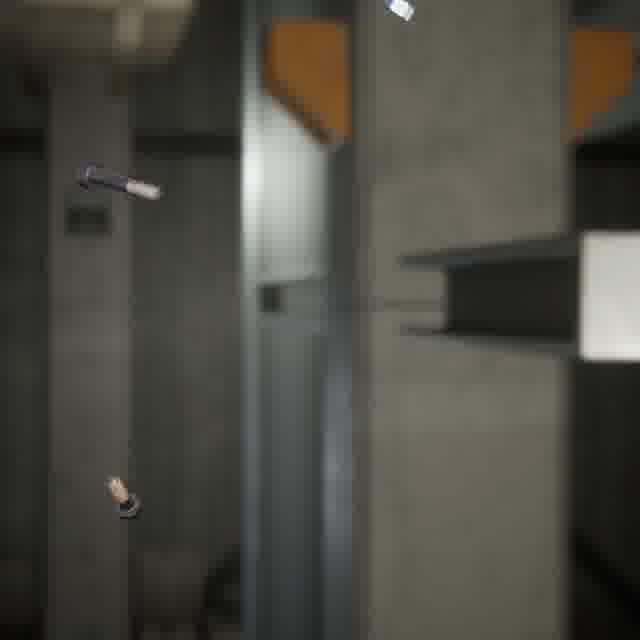bolt: (71, 153, 169, 206), (101, 470, 147, 524)
nut: (375, 0, 418, 25)
